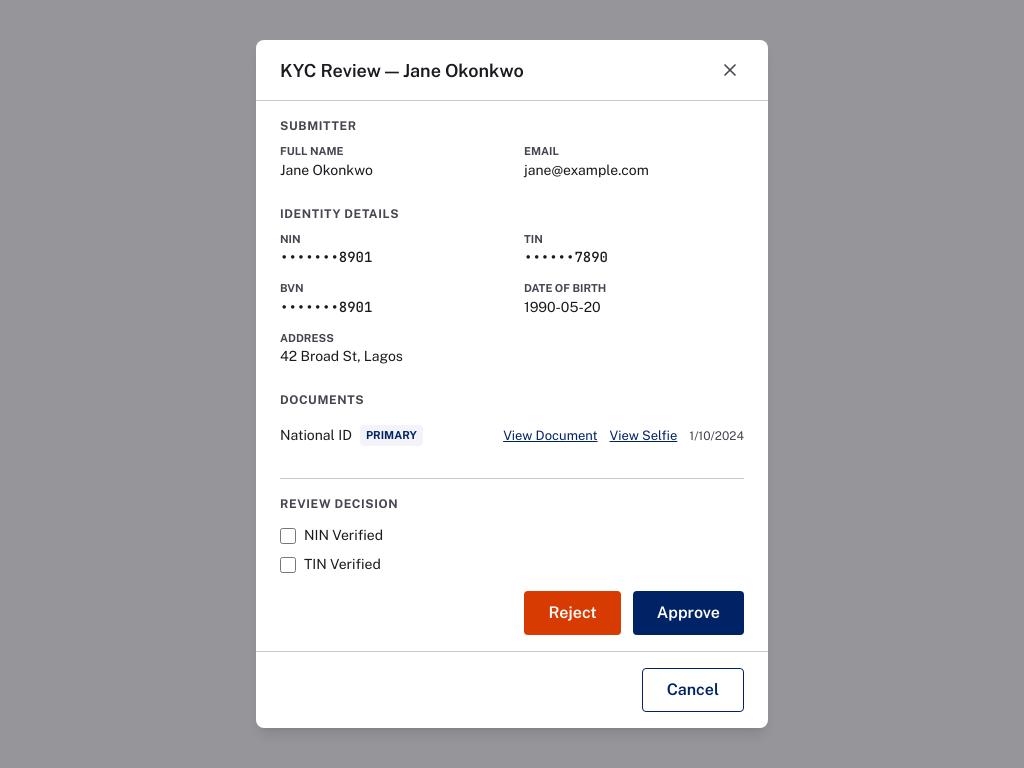
Test case: AC-16: 409 backend response → frontend shows "already reviewed" error message › shows "already been reviewed" message when approve returns 409
Click the button "Approve" at (688, 613), box [633,591,744,635]
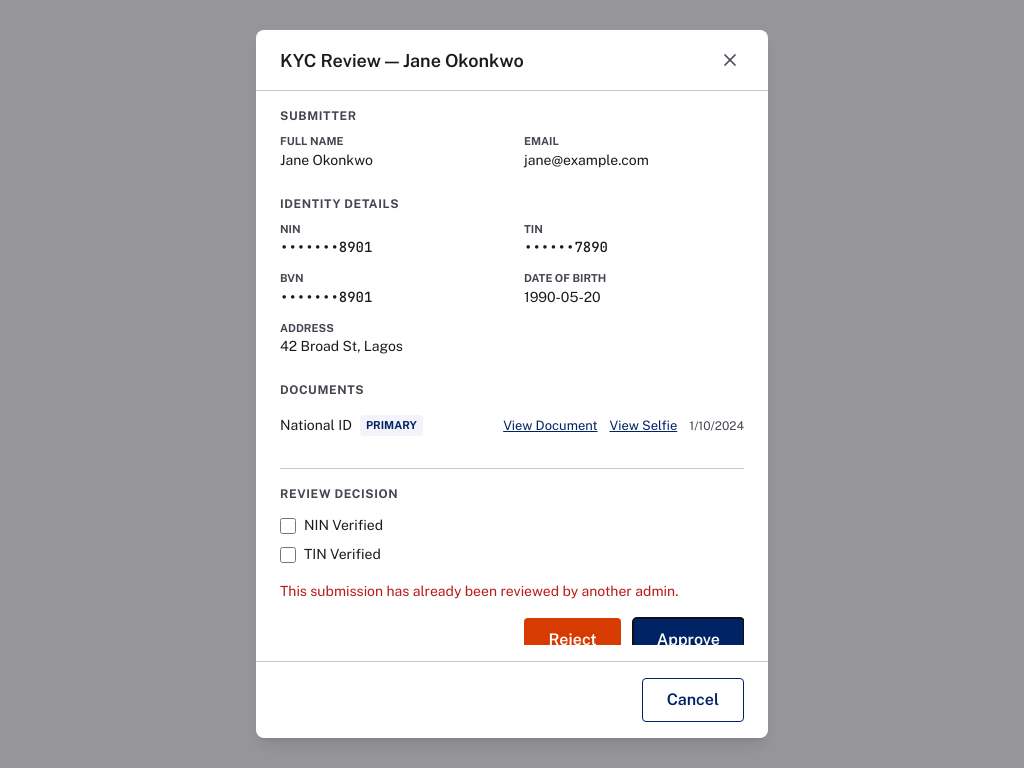
expect the text "This submission has already been reviewed by another admin." is shown: met, box [280,581,744,602]
